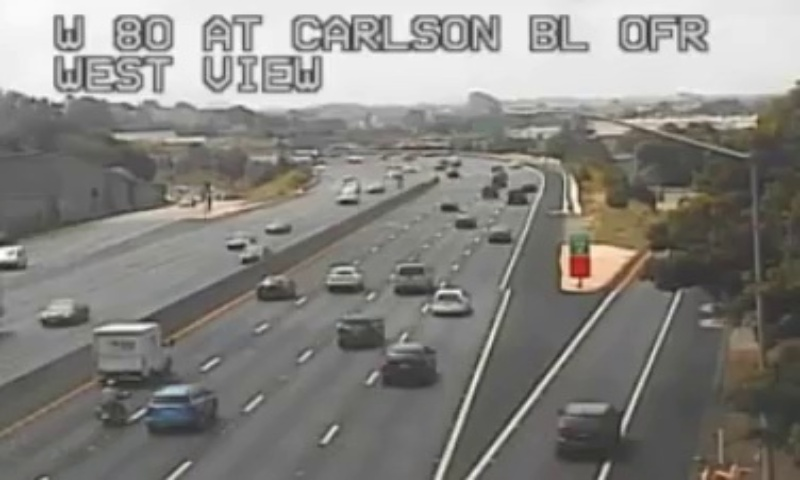car: (555, 402, 619, 454), (146, 386, 217, 427), (380, 342, 434, 384), (335, 315, 383, 346), (390, 263, 430, 294), (431, 288, 470, 313), (256, 274, 294, 299), (325, 265, 361, 288), (487, 227, 510, 241)
motorcycle: (95, 378, 129, 425)
small-truck: (93, 323, 172, 378)
